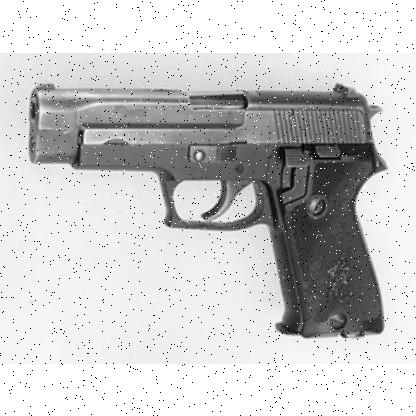gun: (27, 81, 385, 340)
